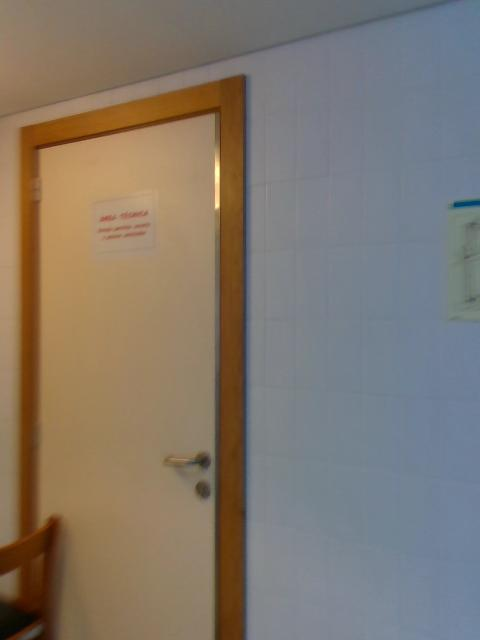door: (35, 105, 221, 640)
